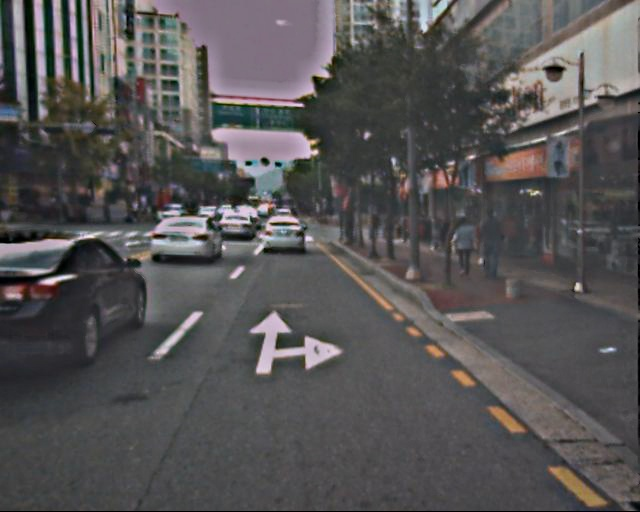person: (475, 206, 506, 282), (450, 214, 475, 276)
